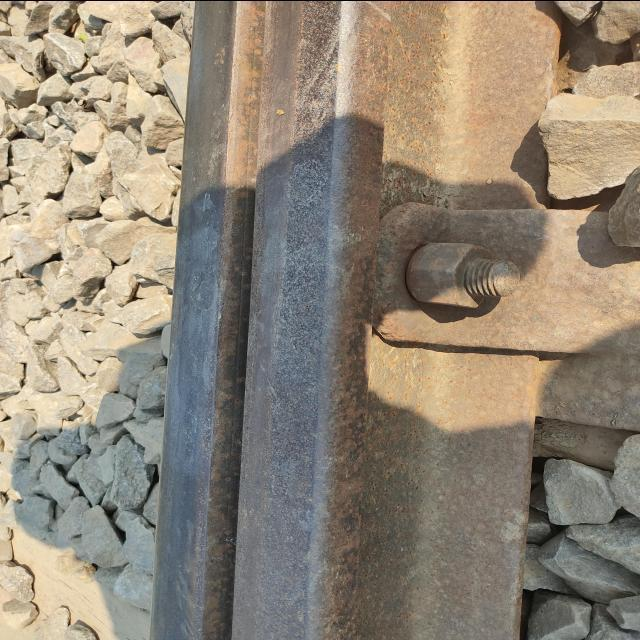head_checks_low: (209, 45, 229, 65), (275, 108, 289, 114)
